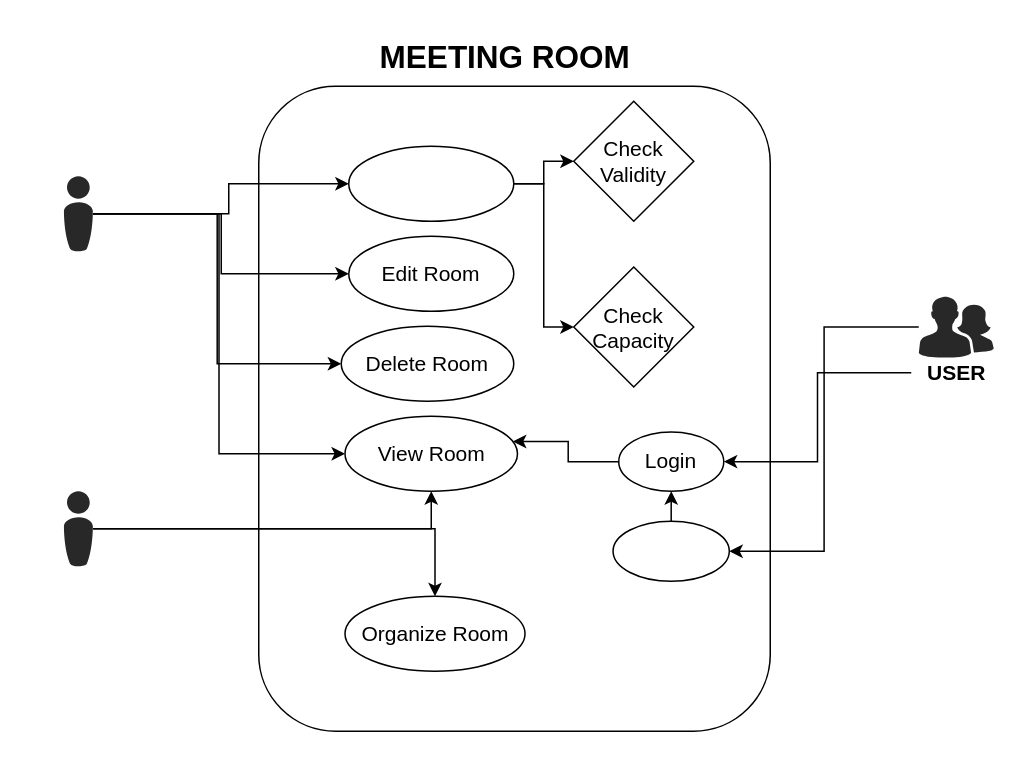
Some shapes in this 1028 by 758 pixel diagram are drawn without their labels. The shapes that lost their labels are listed below. From the top down, each one's centre as x and y in pixels, then its label:
point 430,183: Create Room
point 77,213: ADMIN
point 77,528: MANAGER
point 670,550: Register
